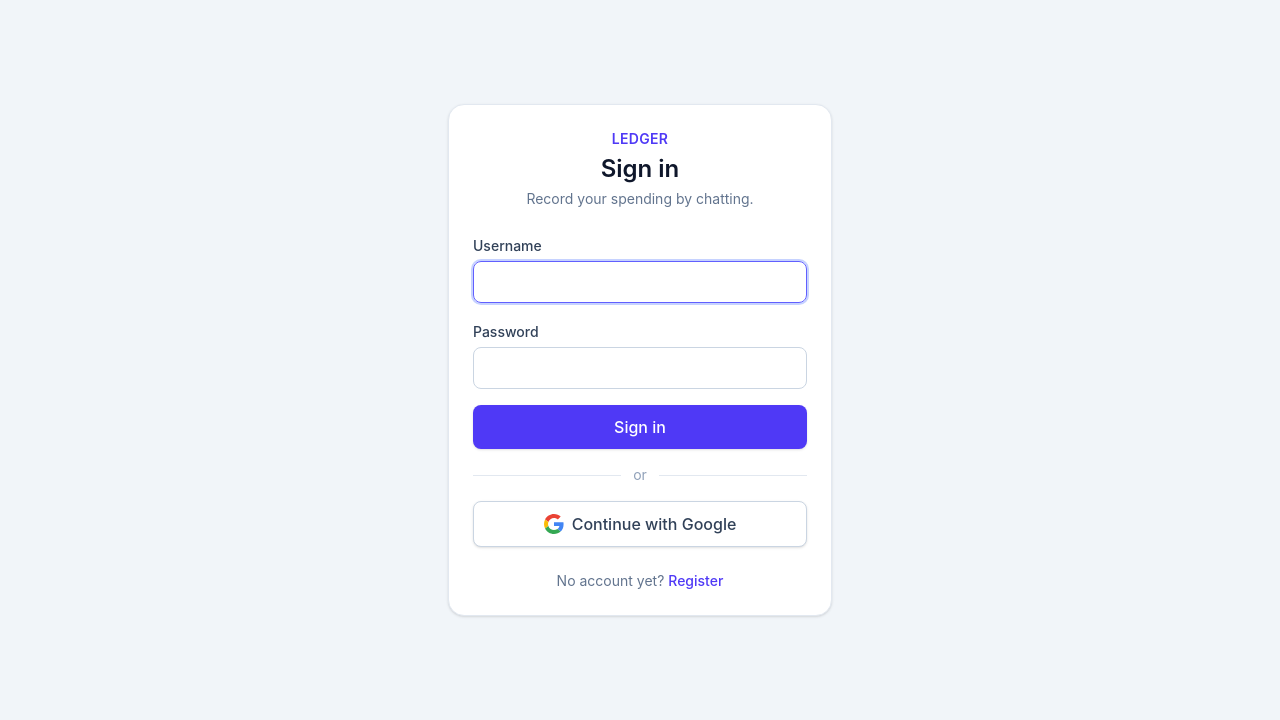
Test: given alice on the chat page › shows a monthly summary
Type "alice" into the field labelled "Username".
click(640, 282); type("alice")  # box top-left (473, 261), bottom-right (807, 303)
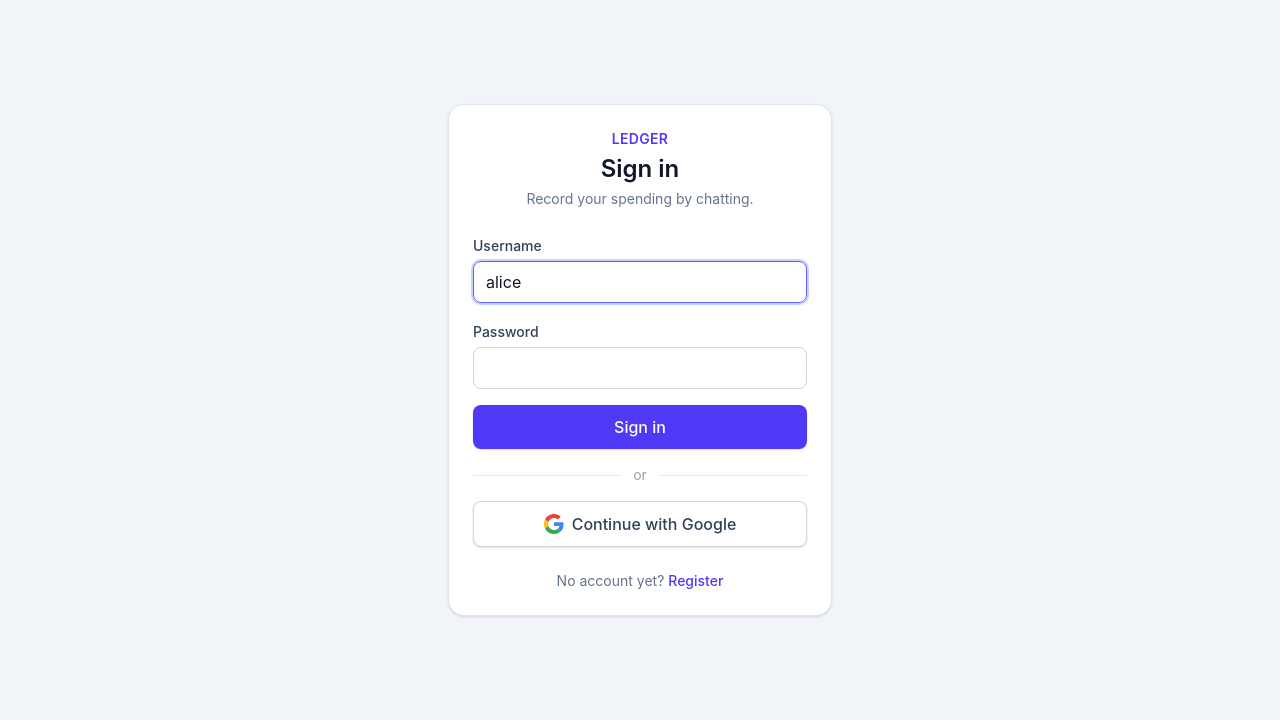
Type "alice-password" into the password field labelled "Password".
click(640, 368); type("alice-password")  # box top-left (473, 347), bottom-right (807, 389)
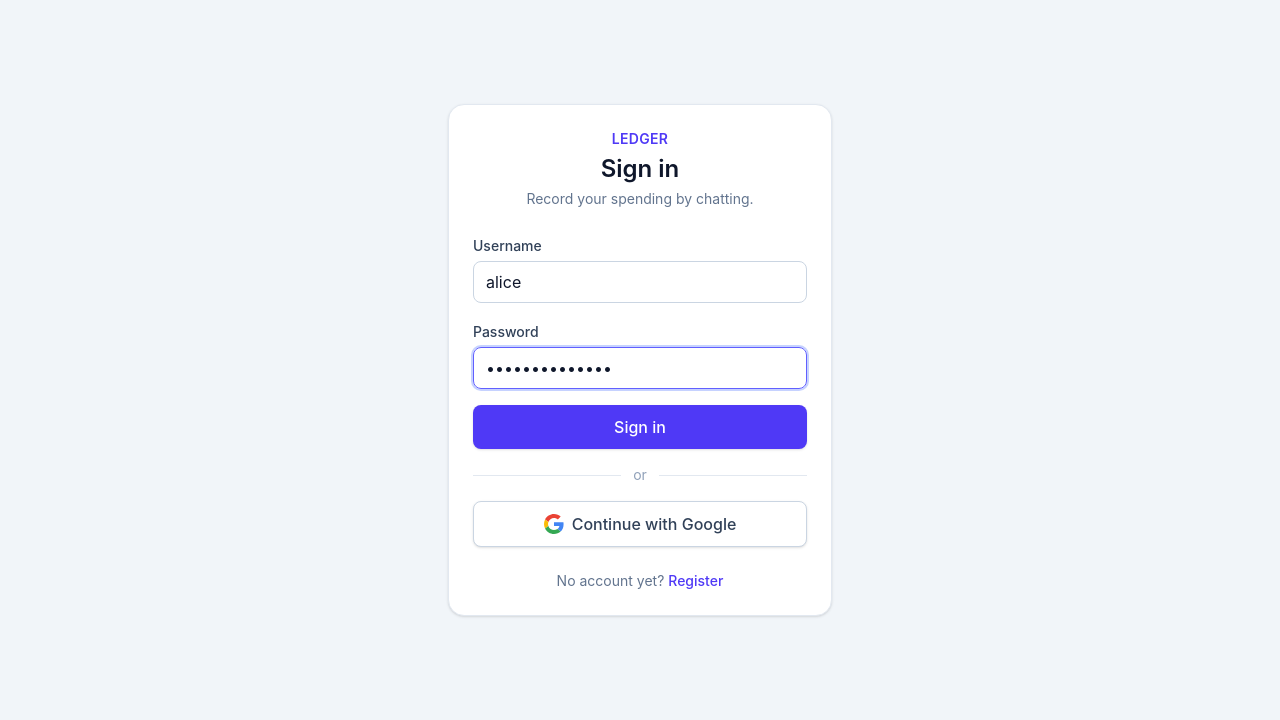
Click the button "Sign in".
click(640, 427)  # box top-left (473, 405), bottom-right (807, 449)
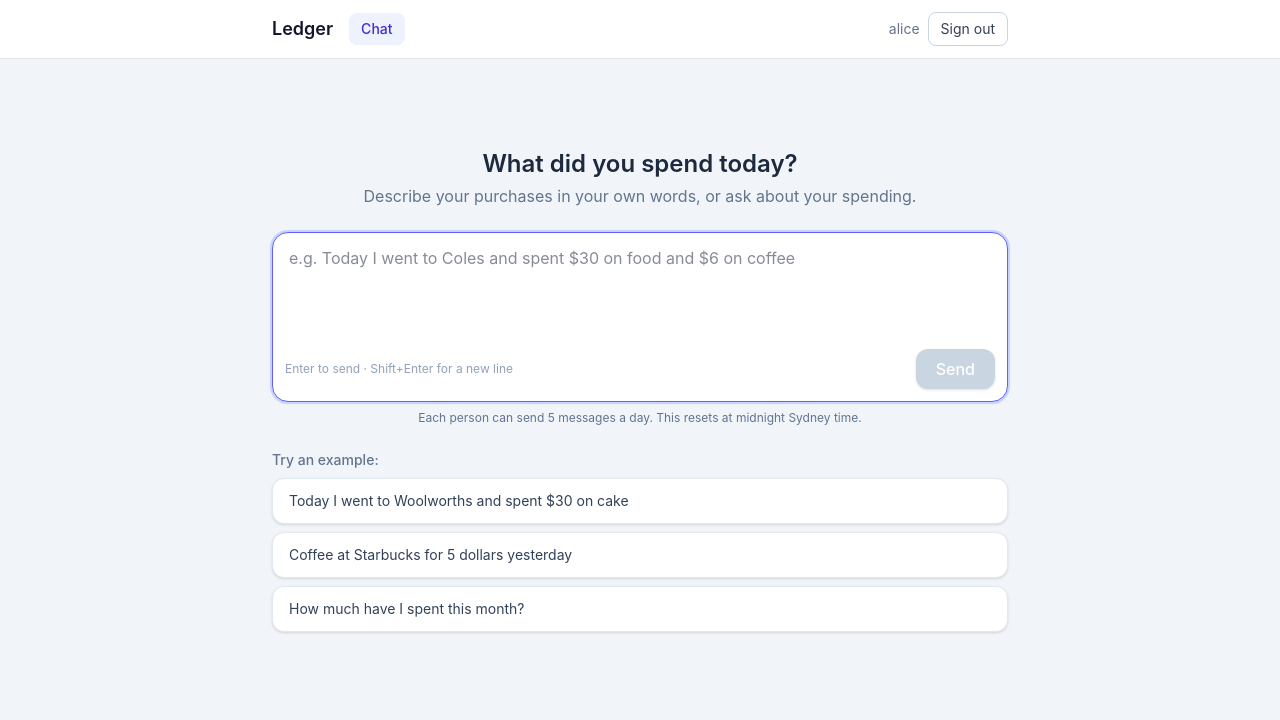
Type "Cake for 30 dollars" into the text box named "describe your spending".
click(640, 290); type("Cake for 30 dollars")  # box top-left (273, 232), bottom-right (1007, 348)
Then press Enter
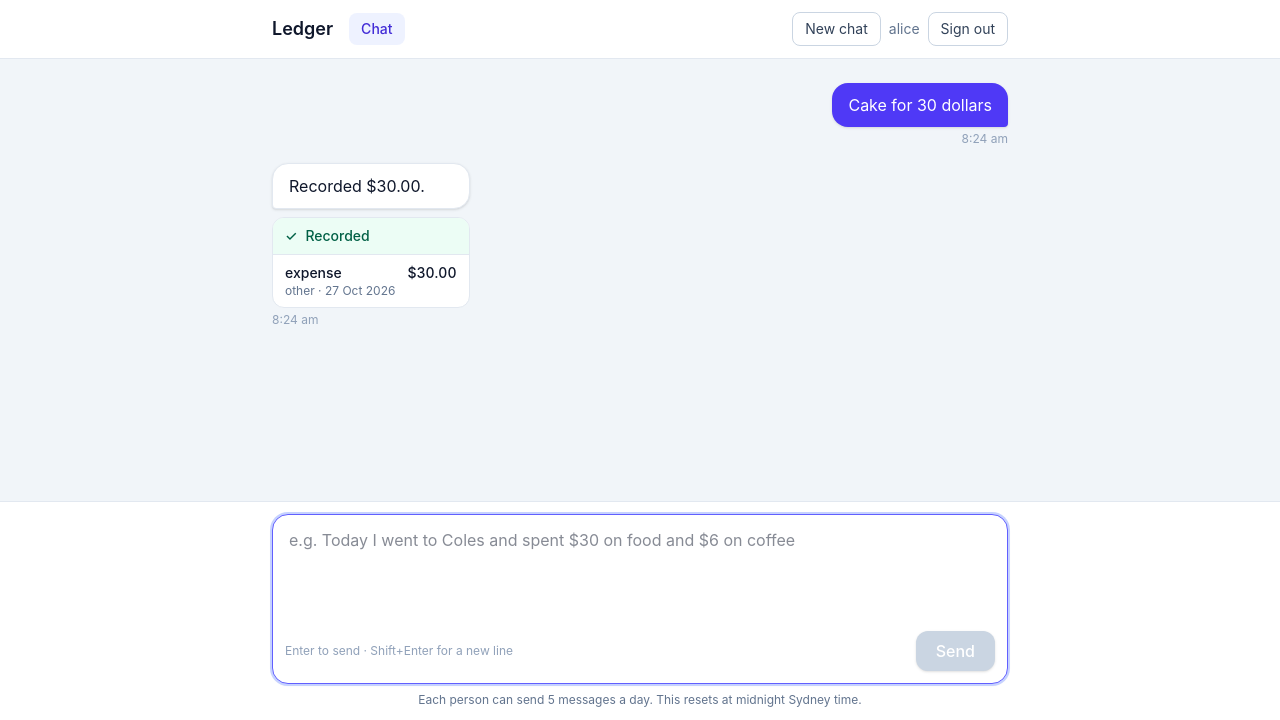
Expected: the text "Recorded $30.00." is shown, top-left (289, 176), bottom-right (425, 196)
Type "How much have I spent this month?" into the text box named "describe your spending".
click(640, 573); type("How much have I spent this month?")  # box top-left (273, 515), bottom-right (1007, 631)
Then press Enter
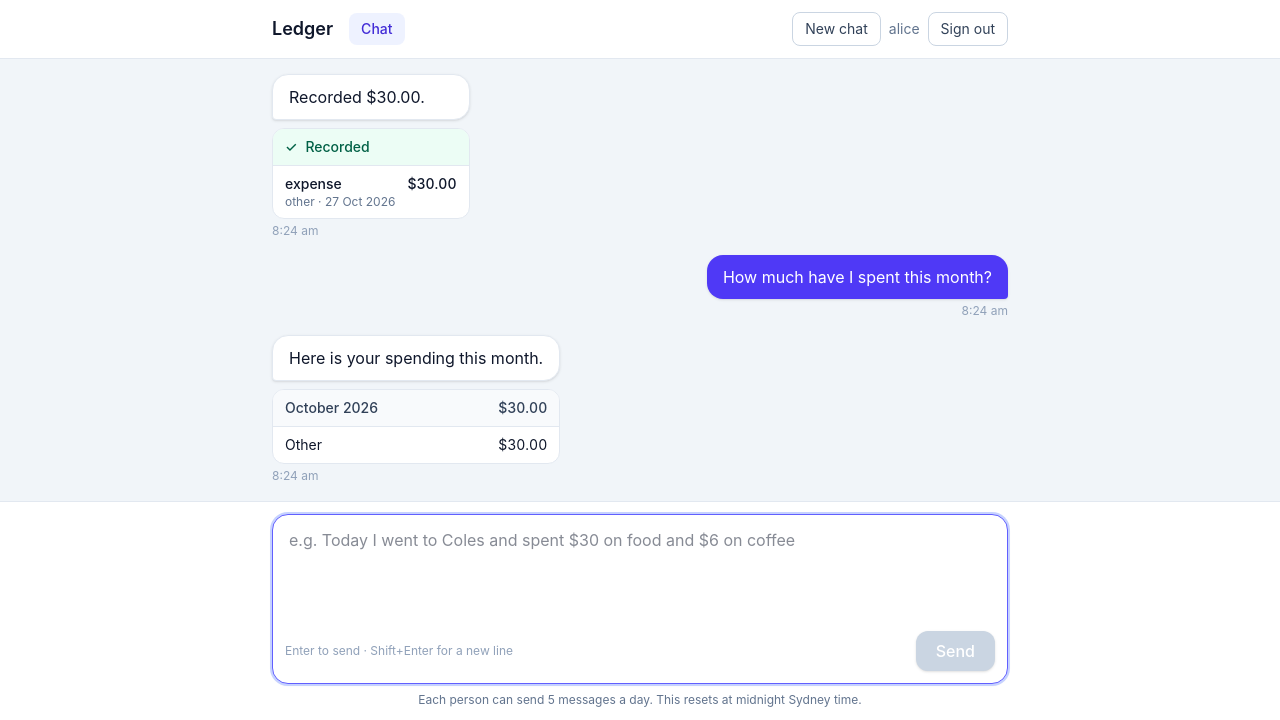
Expected: the text with test id "summary-total" reads "$30.00", top-left (498, 399), bottom-right (547, 416)
